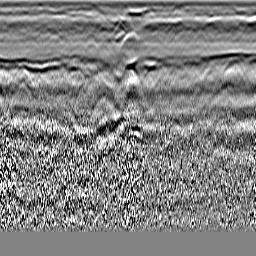cavity: (119, 29, 140, 47)
